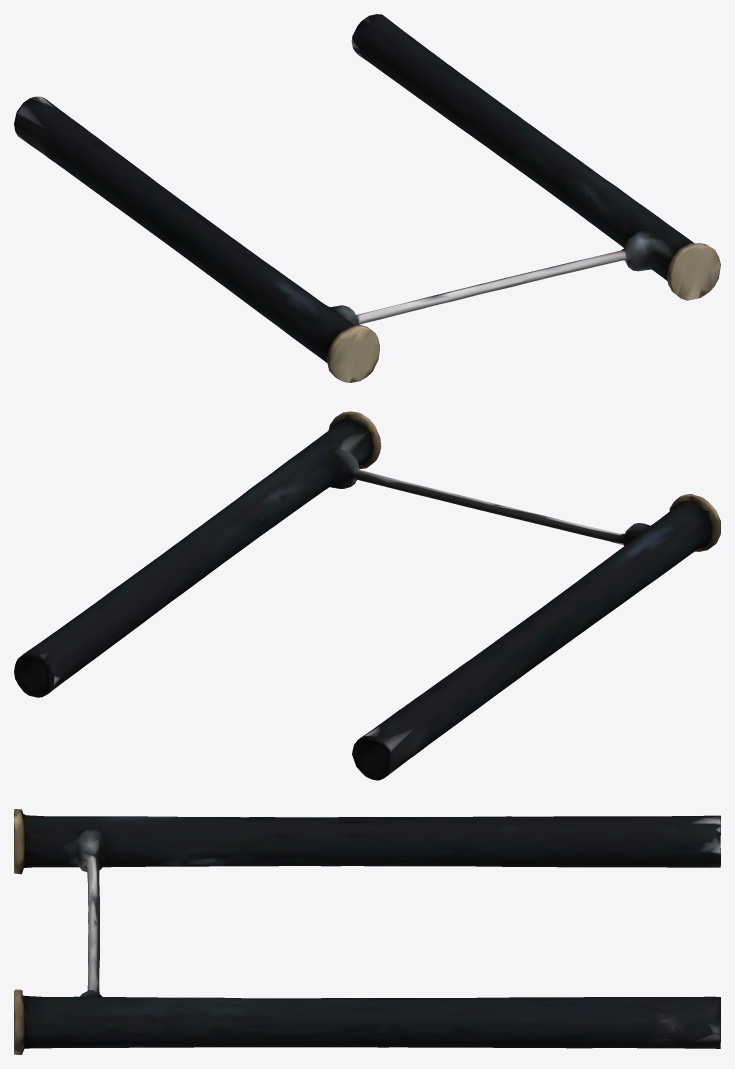
Rendered from pullup-black.glb.
3 views of the same model, one above another, from view 1: azimuth 30°, elevation 25°; view 2: azimuth 150°, elevation 25°; view 3: azimuth 270°, elevation 25° (orthographic). The views are drawn at different scales.
Visible parts, largest first — view 1: pullup-black; view 2: pullup-black; view 3: pullup-black.
Part boxes in pixels (x1,y1,x2,y2): pullup-black: [14, 14, 720, 382]; pullup-black: [14, 411, 720, 780]; pullup-black: [14, 809, 720, 1054].
Bounding box in the file's own units: 0.6993 × 0.0935 × 1.
